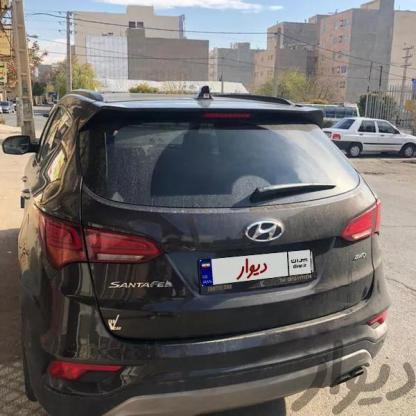Car: (23, 82, 392, 416), (324, 122, 416, 161)
